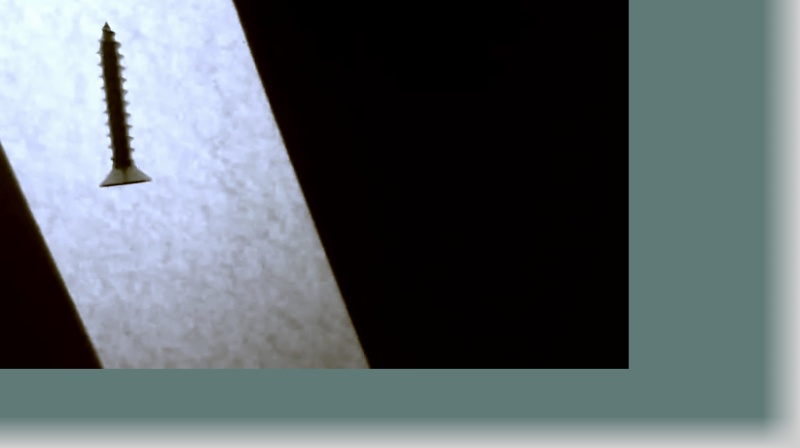S001: (95, 21, 153, 189)
